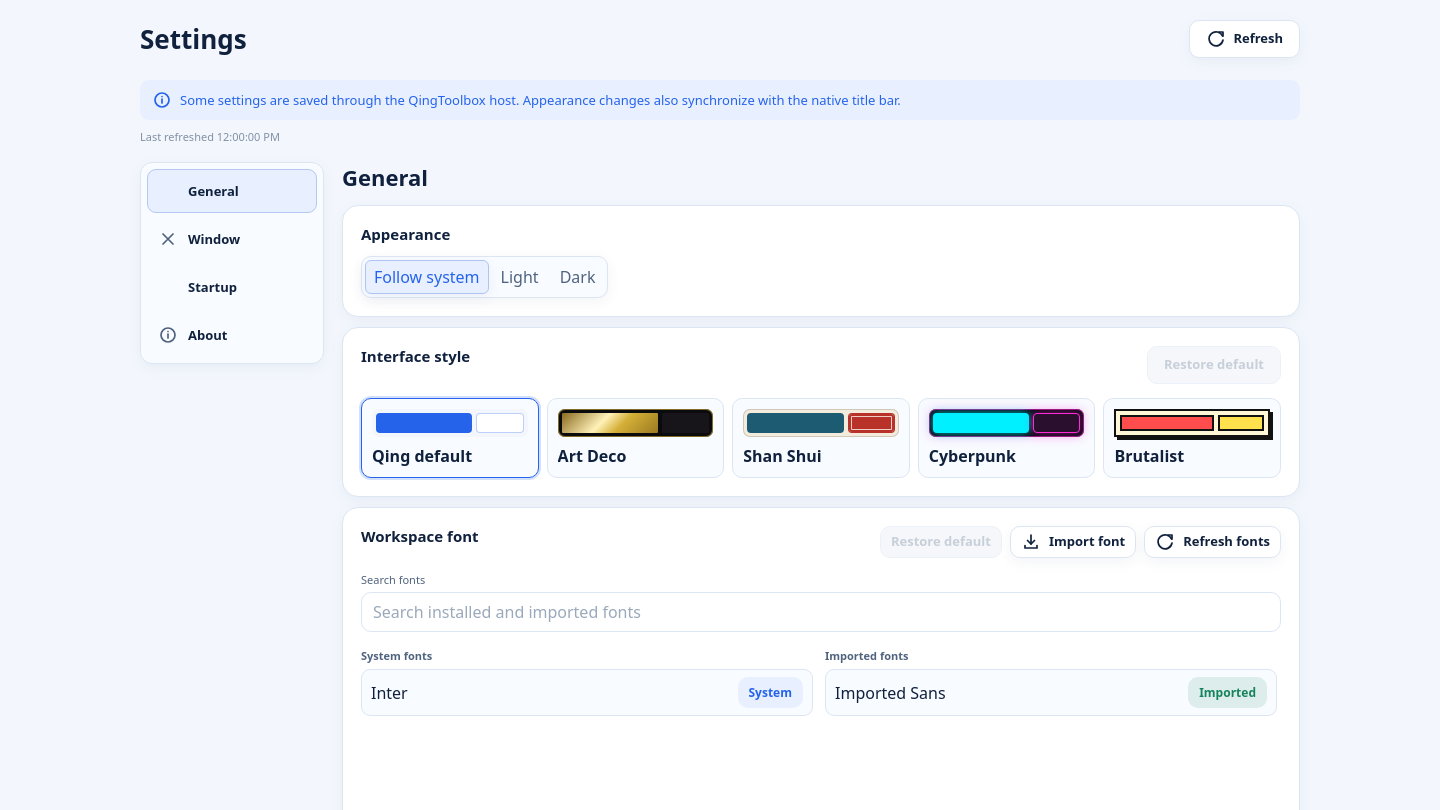
Scenario: SettingsPage information architecture › preserves close behavior after failure
Click the button "Window".
click(232, 239)  # box [147,217,317,261]
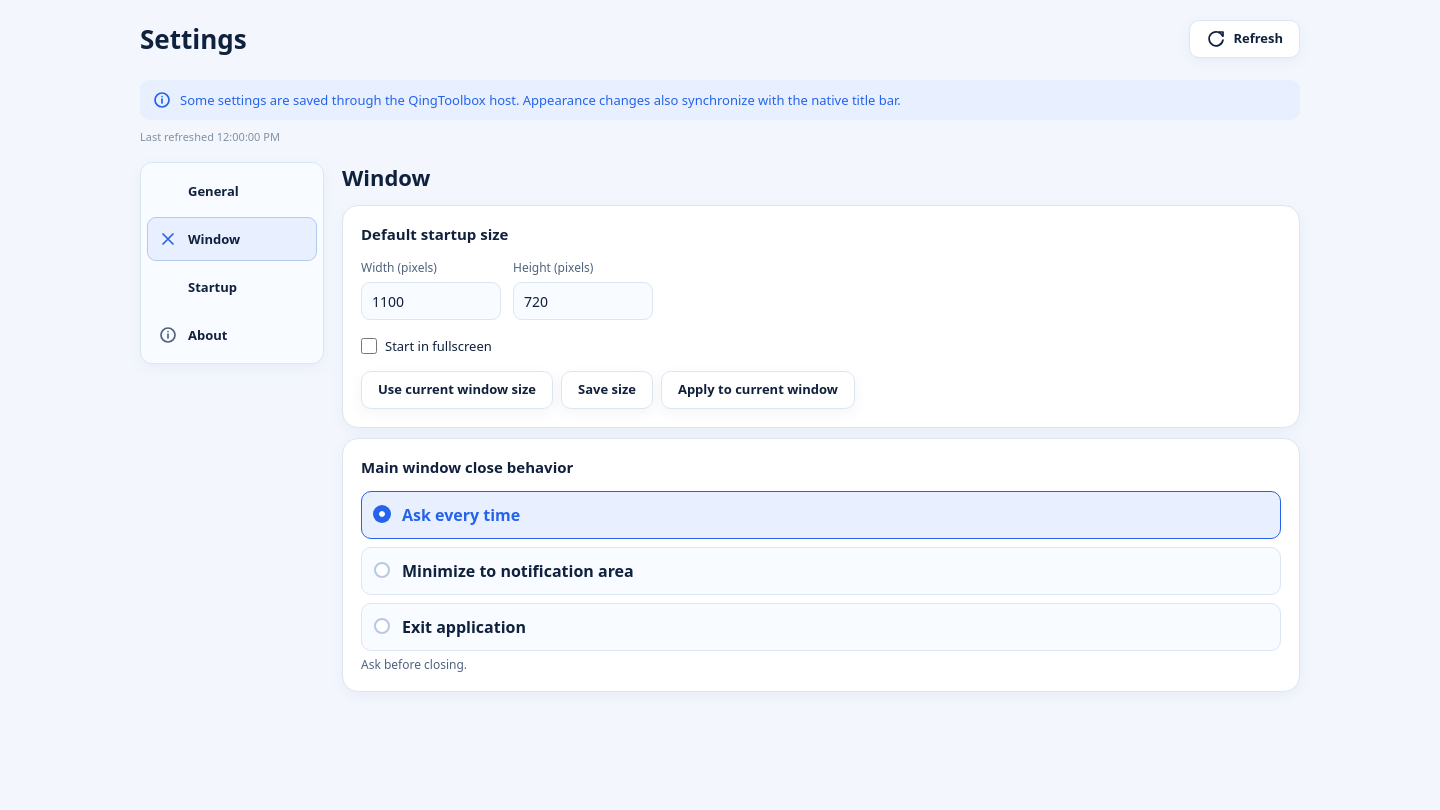
Click the radio button labelled "Minimize to notification area".
click(518, 571)  # box [361,547,1281,595]
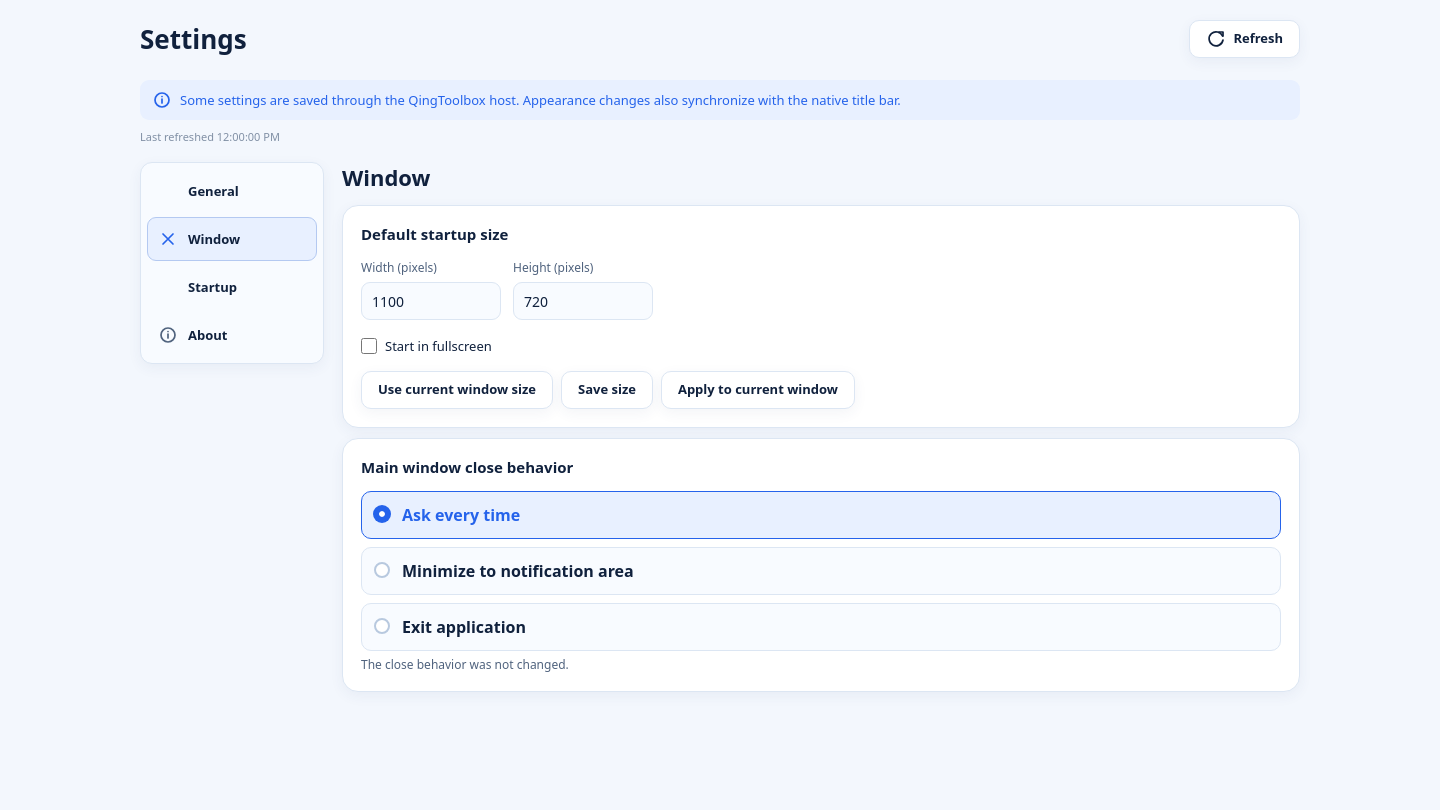
expect the text "close behavior was not changed" is shown: met, box [361,656,569,673]
